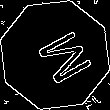M_SW: (22, 22, 88, 88)
